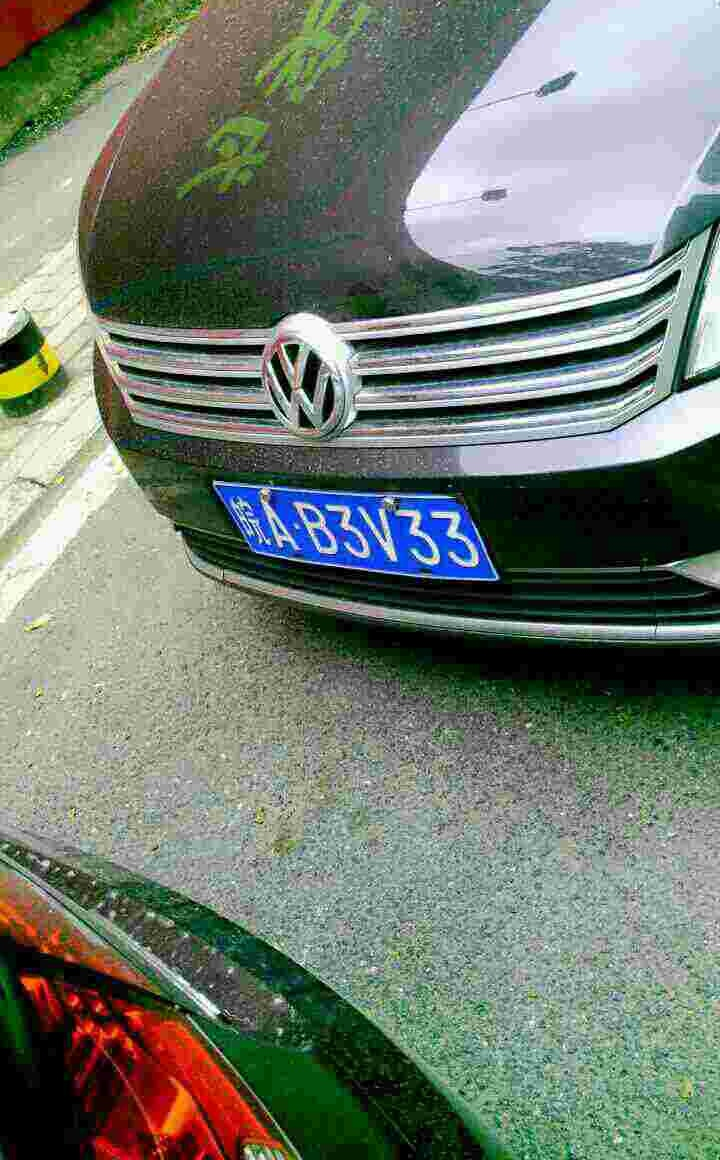license_plate: (207, 487, 482, 590)
